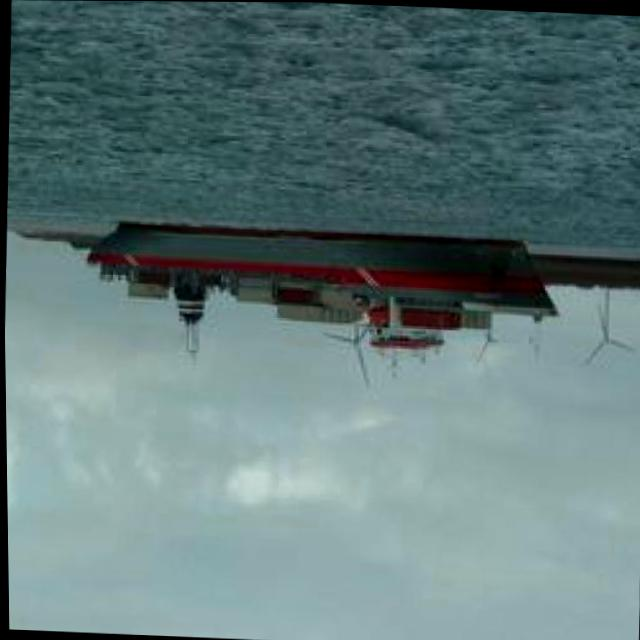ship2: (83, 221, 559, 390)
